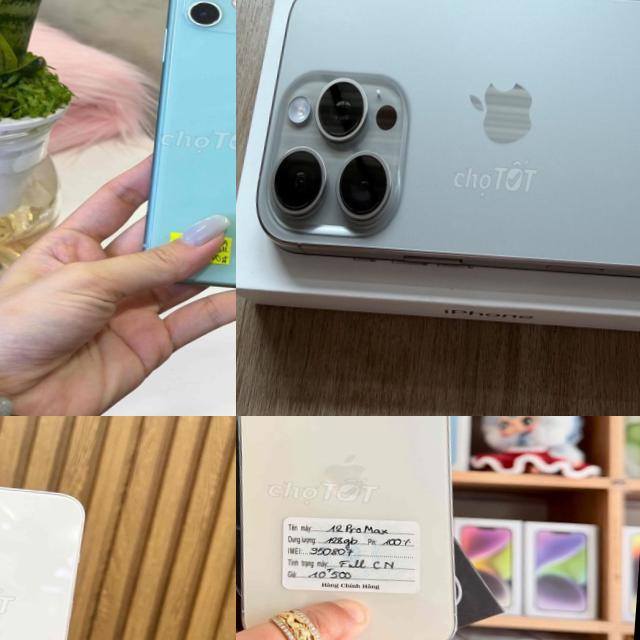gen_11: (131, 0, 236, 301)
gen_12_13: (236, 416, 487, 640), (0, 469, 94, 640)
gen_16: (251, 0, 640, 294)
